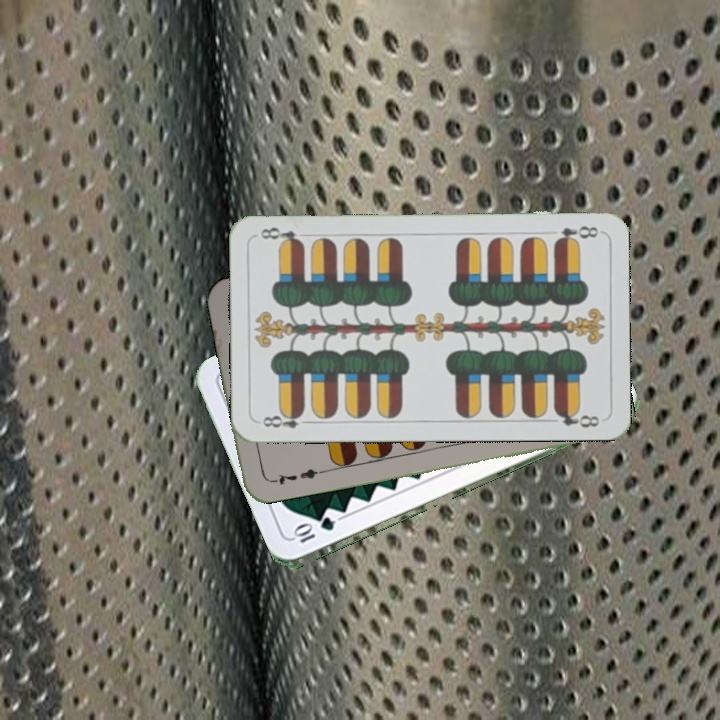E7: (265, 464, 324, 488)
E8: (258, 407, 314, 431), (551, 222, 601, 246)
G10: (290, 515, 337, 546)
